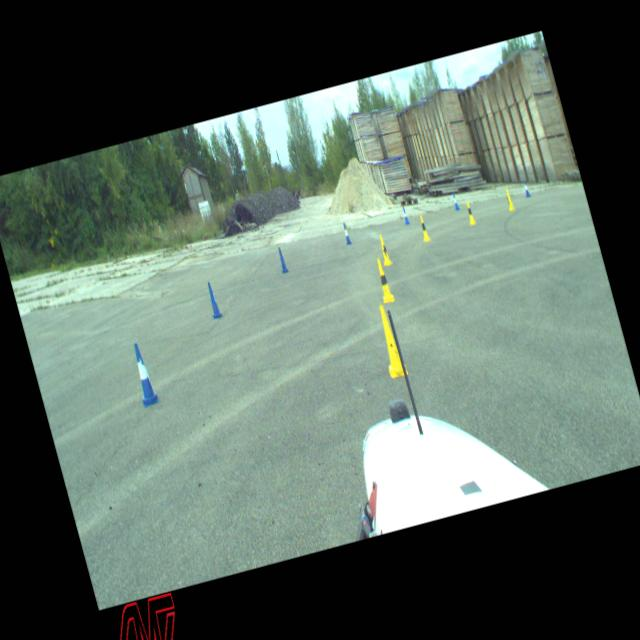blue_cone: (127, 340, 158, 404), (205, 280, 222, 318), (276, 246, 288, 272), (342, 222, 352, 244), (520, 178, 530, 198), (400, 205, 409, 225), (451, 192, 460, 210)
yellow_cone: (372, 304, 408, 378), (373, 258, 395, 302), (376, 232, 392, 264), (416, 214, 431, 242), (464, 200, 476, 225), (504, 188, 514, 210)
